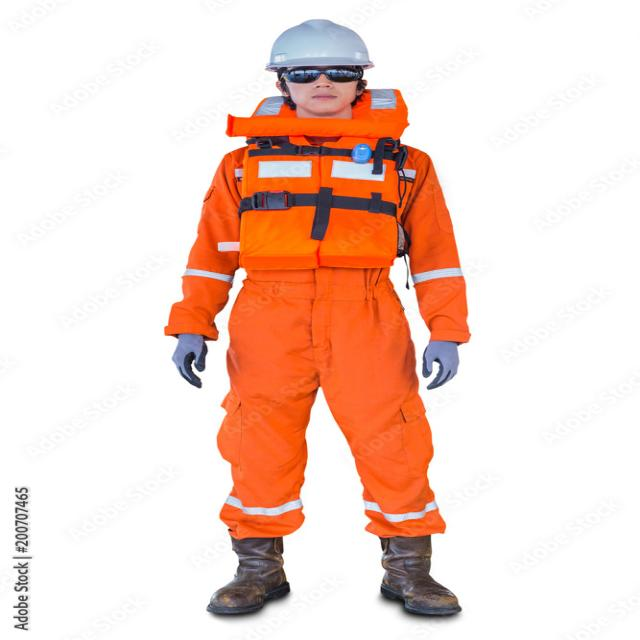gloves: (163, 332, 213, 391), (414, 338, 462, 392)
helmet: (266, 14, 376, 69)
vest: (235, 138, 408, 272)
